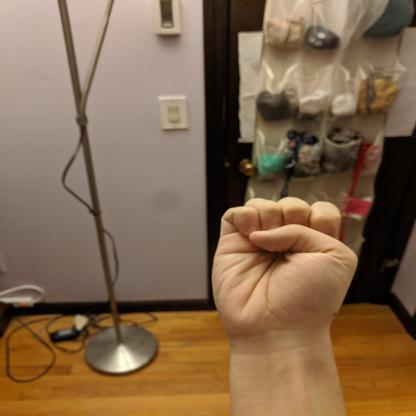E: (206, 194, 362, 346)
